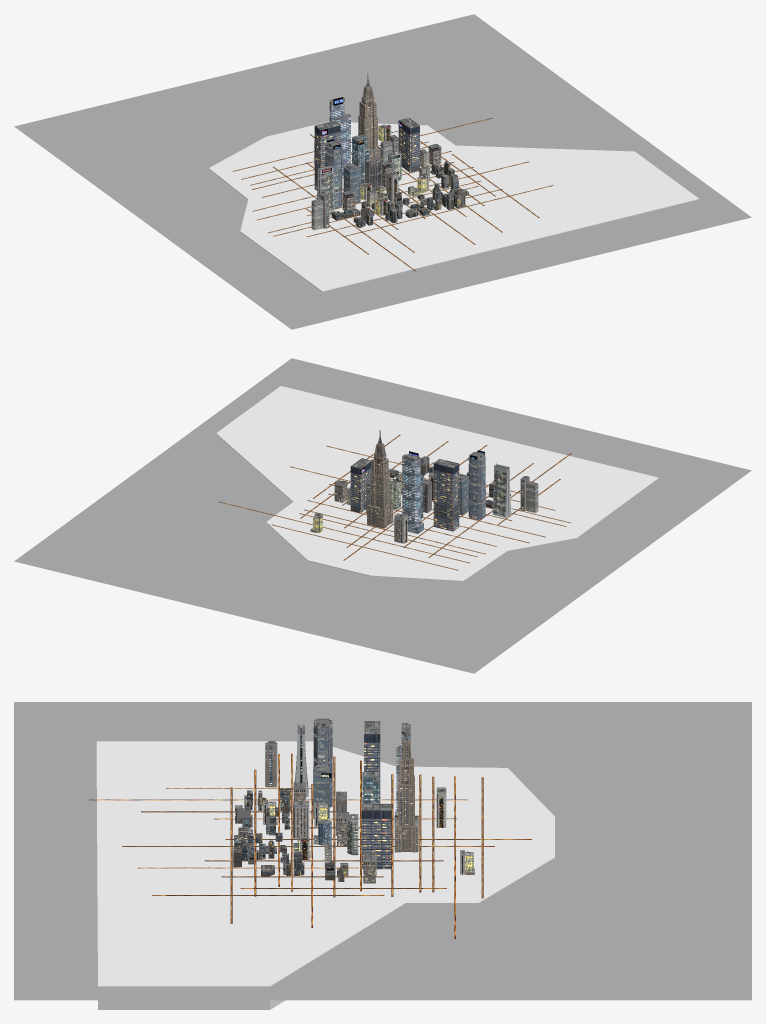
File: Sketchfab_Scene.glb
3 views of the same model, one above another, from view 1: azimuth 30°, elevation 25°; view 2: azimuth 150°, elevation 25°; view 3: azimuth 270°, elevation 25° (orthographic). The views are drawn at different scales.
Size of the model in its own units: 13.88 by 3.2 by 14.51.
Materials: 7 (4 with a texture image).
